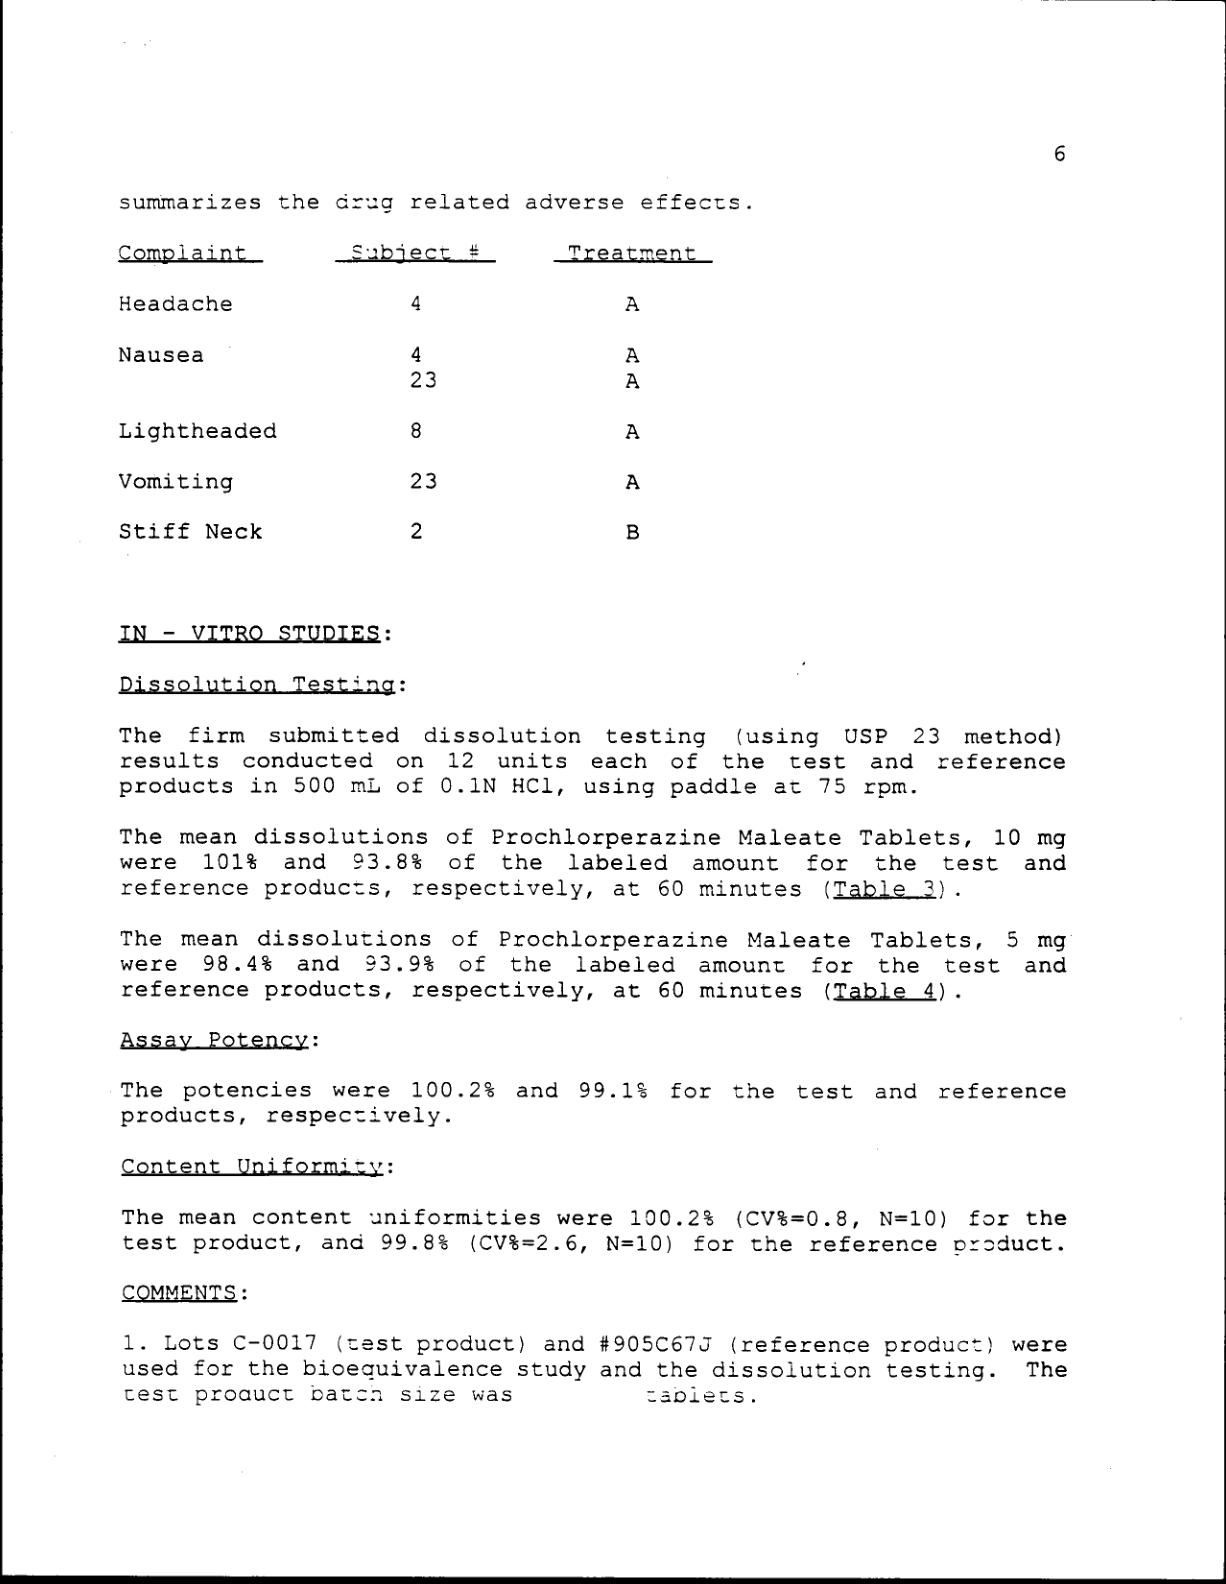nolines: (114, 237, 712, 545)
